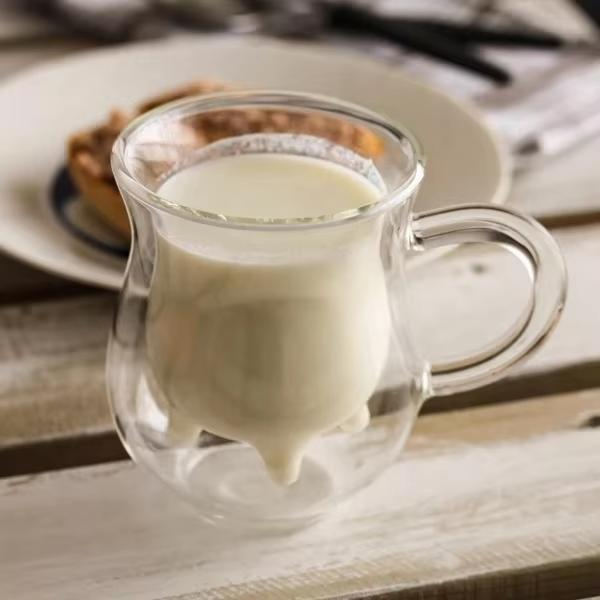produk_susu: (170, 118, 366, 457)
